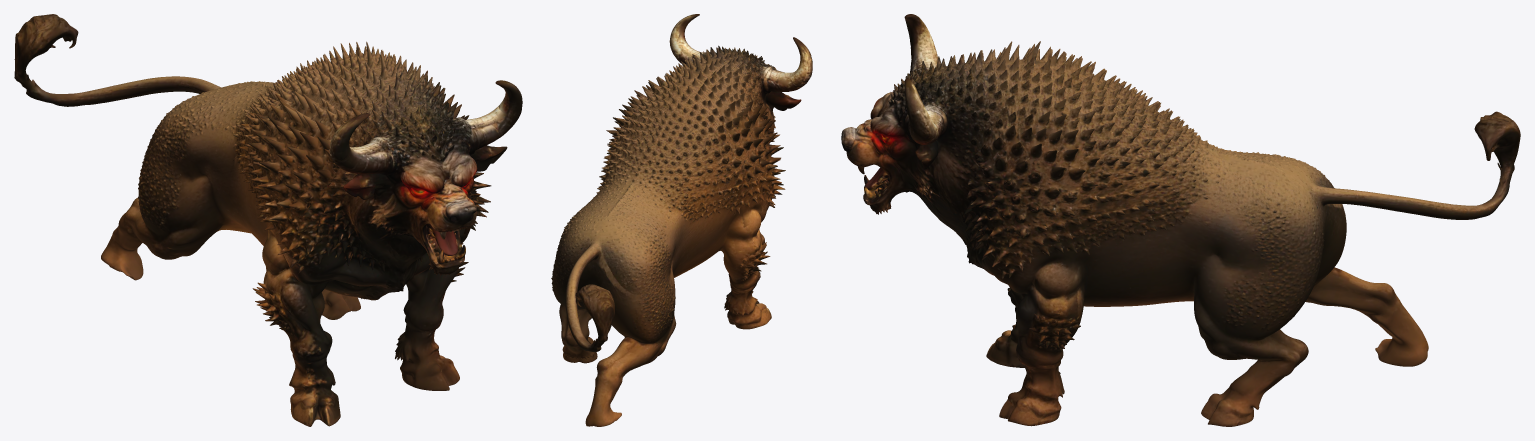
The model's file is qiong-qi.glb.
The picture shows the model from 3 angles, left to right: view 1: azimuth 30°, elevation 25°; view 2: azimuth 150°, elevation 25°; view 3: azimuth 270°, elevation 25°; orthographic projection. The views are drawn at different scales.
Visible parts, largest first — view 1: node_0; view 2: node_0; view 3: node_0.
Boxes of the visible parts, x1,y1,x2,y2 form: node_0: [14, 14, 522, 426]; node_0: [551, 14, 812, 426]; node_0: [841, 14, 1520, 426].
Size of the model in its own units: 0.433 by 0.6421 by 1.13.
Materials: 1 (1 with a texture image).
